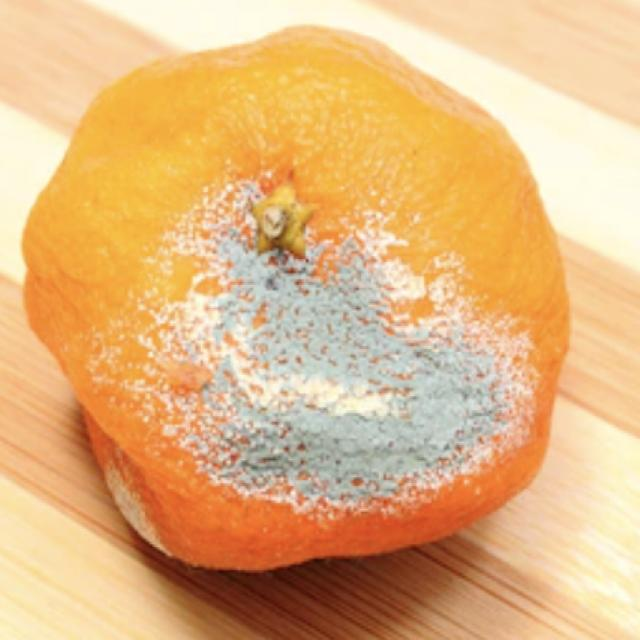rotten-orange: (24, 24, 571, 572)
